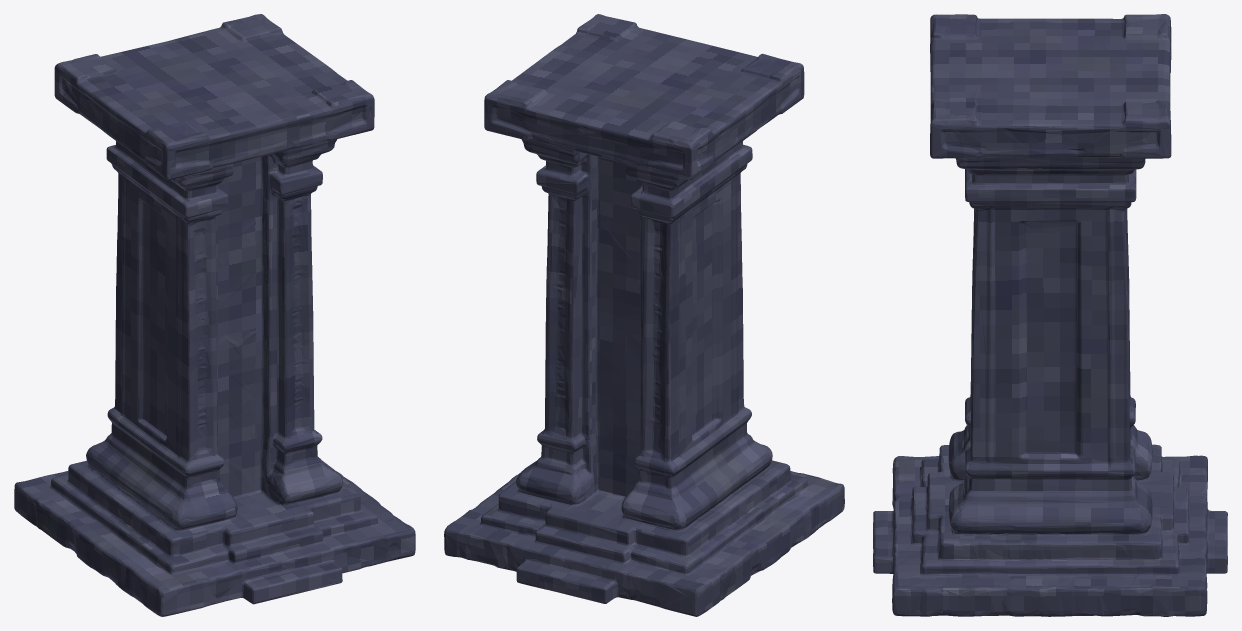
File: weathered-monolith-pillar-generated-2026-04-19T23-30-13-924Z.low.glb
The picture shows the model from 3 angles, left to right: view 1: azimuth 30°, elevation 25°; view 2: azimuth 150°, elevation 25°; view 3: azimuth 270°, elevation 25°; orthographic projection. The views are drawn at different scales.
Visible parts, largest first — view 1: temp_mesh.ply; view 2: temp_mesh.ply; view 3: temp_mesh.ply.
Boxes of the visible parts, x1,y1,x2,y2 form: temp_mesh.ply: (14,14,415,616); temp_mesh.ply: (444,14,844,616); temp_mesh.ply: (873,14,1227,616).
Bounding box in the file's own units: 1.17 × 1.97 × 1.31.
1 material, 1 textured.
